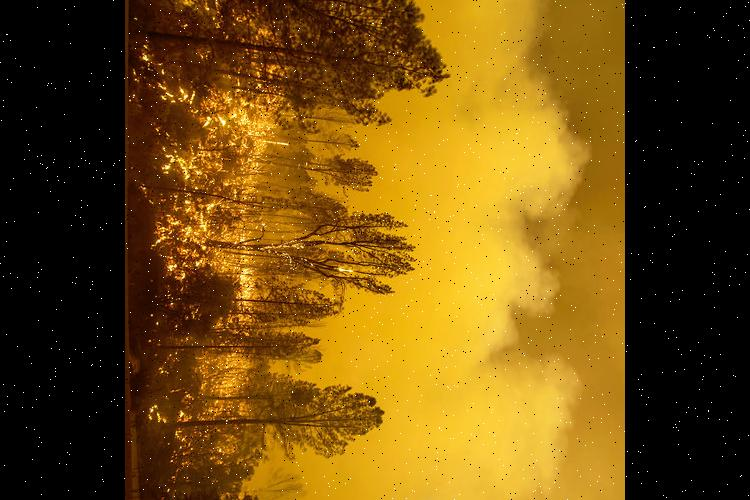fire: (125, 0, 291, 441)
